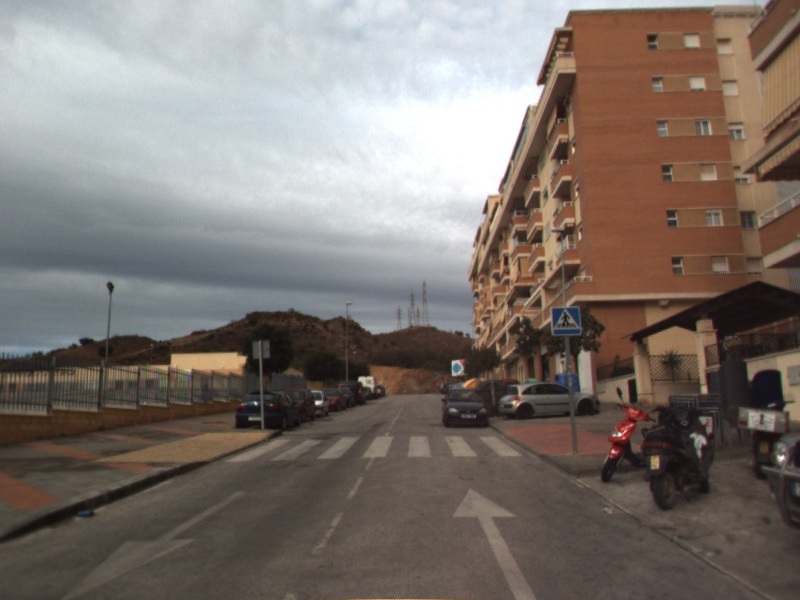STRAIGHT: (450, 485, 539, 600)
